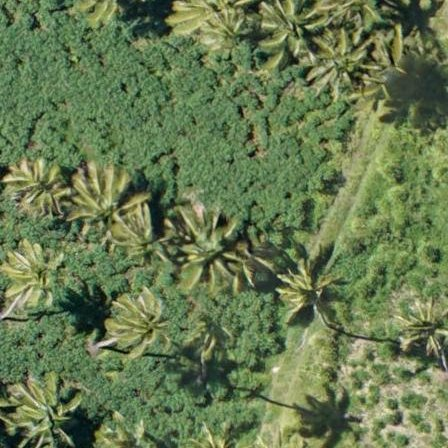palm_tree: (4, 364, 87, 448), (170, 203, 240, 281), (1, 246, 69, 323), (280, 254, 349, 327), (107, 287, 174, 361), (391, 291, 448, 369), (311, 30, 377, 95), (5, 159, 69, 221), (117, 199, 169, 269), (258, 1, 318, 61), (71, 162, 121, 233), (193, 11, 253, 55)
